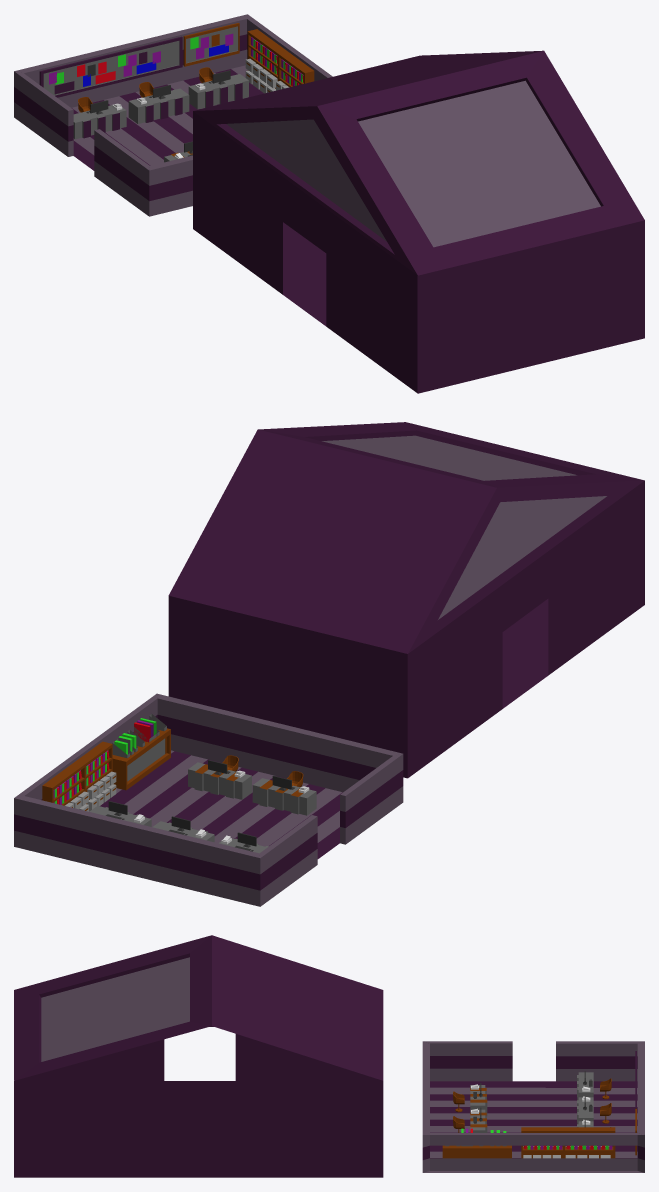
File: Hangar3.fbx
3 views of the same model, one above another, from view 1: azimuth 30°, elevation 25°; view 2: azimuth 150°, elevation 25°; view 3: azimuth 270°, elevation 25° (orthographic). The views are drawn at different scales.
Parts seen in each view (by area): view 1: Plane.003, Cube.139, Plane, Cube.001, Plane.002, Cube.006, Cube.007, Cube.004, Cube.018; view 2: Plane.003, Cube.139, Cube.011, Cube.108, Cube.008, Cube.018, Cube.001; view 3: Plane.003, Cube.139, Cube.011, Cube.001, Cube.018, Cube.108, Cube.004, Cube.006, Cube.008.
Part boxes in pixels (x1,y1,x2,y2): Plane.003: (193, 50, 644, 393); Cube.139: (14, 14, 332, 216); Plane: (39, 36, 182, 97); Cube.001: (245, 29, 287, 93); Plane.002: (183, 23, 239, 66); Cube.006: (128, 85, 189, 123); Cube.007: (188, 70, 248, 109); Cube.004: (73, 100, 126, 139); Cube.018: (276, 51, 314, 90); Plane.003: (168, 422, 644, 778); Cube.139: (14, 693, 403, 906); Cube.011: (112, 714, 170, 790); Cube.108: (252, 775, 316, 815); Cube.008: (188, 760, 251, 799); Cube.018: (75, 741, 116, 810); Cube.001: (42, 762, 88, 811); Plane.003: (14, 935, 383, 1177); Cube.139: (422, 1041, 644, 1172); Cube.011: (442, 1128, 511, 1158); Cube.001: (563, 1127, 615, 1158); Cube.018: (521, 1127, 564, 1158); Cube.108: (470, 1083, 487, 1115); Cube.004: (577, 1071, 593, 1100); Cube.006: (577, 1096, 593, 1124); Cube.008: (470, 1107, 487, 1132).
Size of the model in its own units: 6471 by 4519 by 16162.
